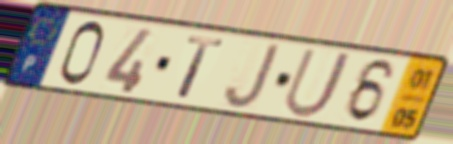0: (58, 18, 106, 87)
4: (100, 23, 155, 96)
6: (342, 57, 398, 126)
J: (222, 41, 283, 111)
T: (174, 34, 228, 101)
U: (280, 46, 357, 121)
